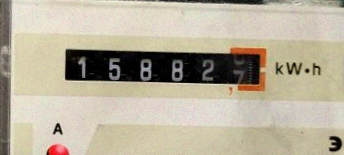1: (75, 53, 88, 79)
2: (199, 57, 216, 82)
5: (106, 55, 121, 81)
7: (230, 67, 245, 84)
8: (137, 56, 154, 81), (169, 57, 185, 82)
screen: (54, 37, 274, 100)
